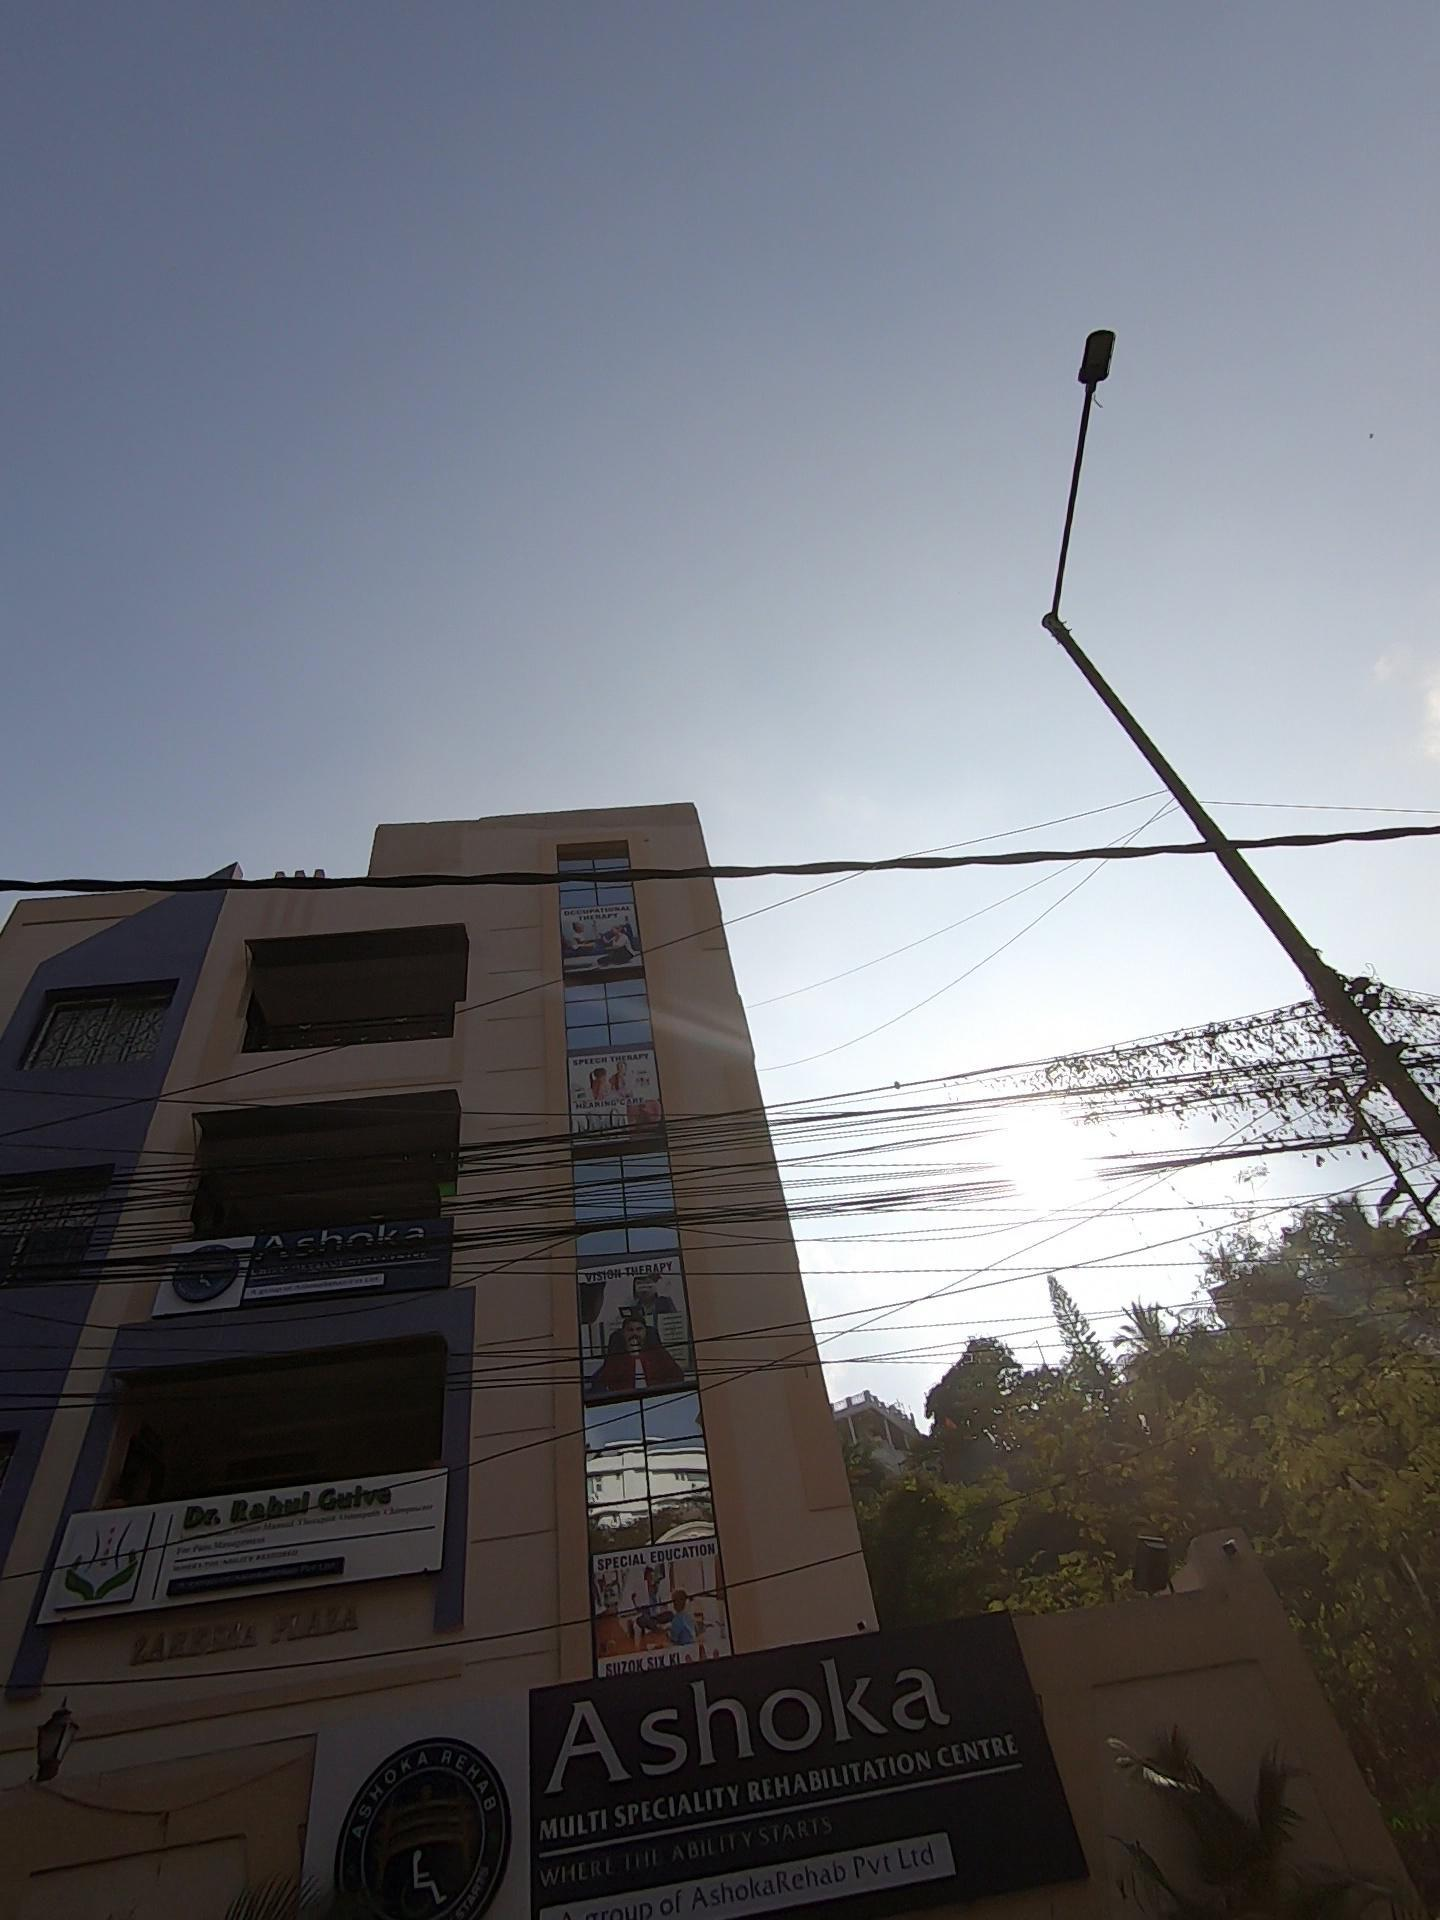off: (903, 260, 1265, 806)
